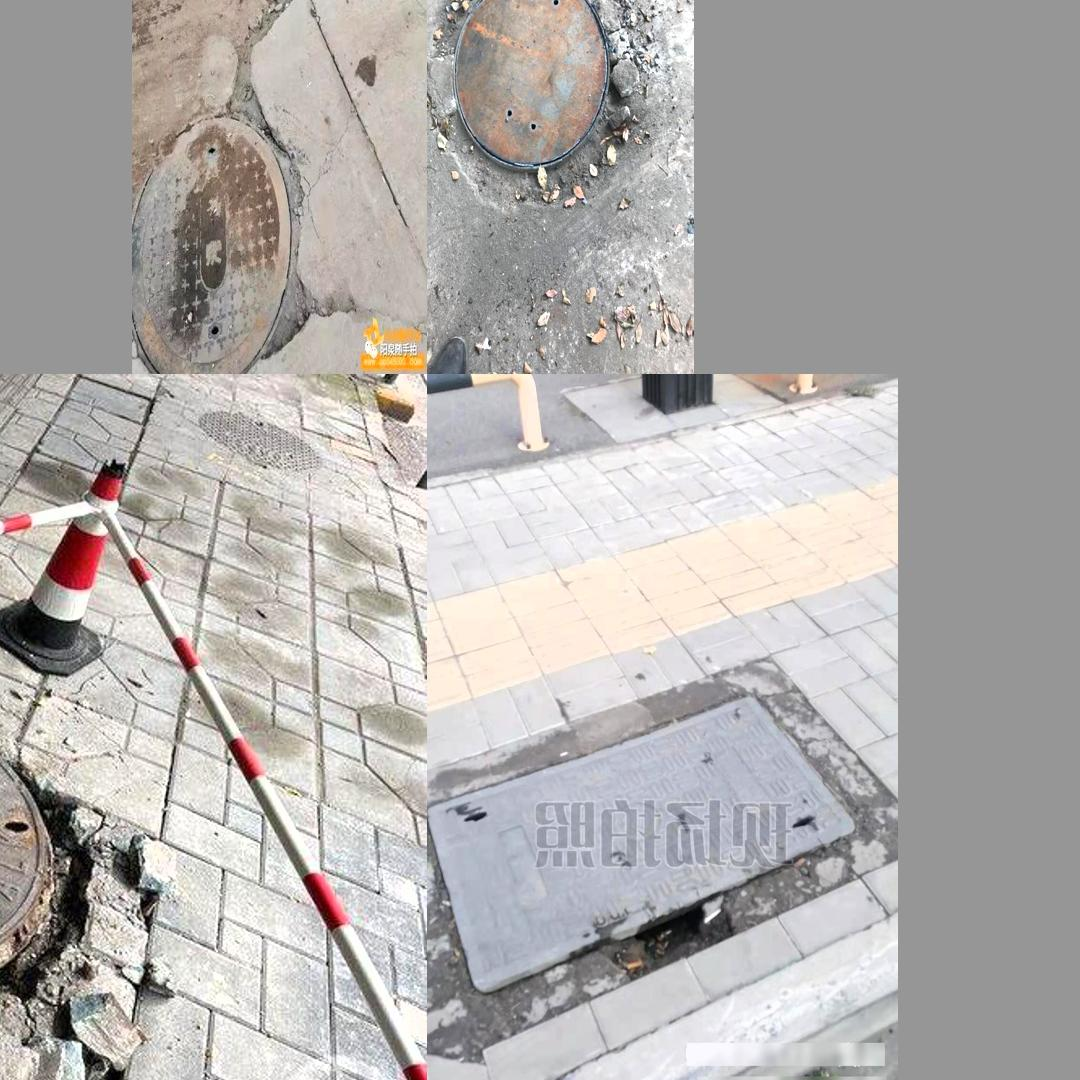circle: (427, 657, 891, 1025), (0, 656, 143, 1080), (135, 94, 342, 367), (434, 0, 661, 224)
